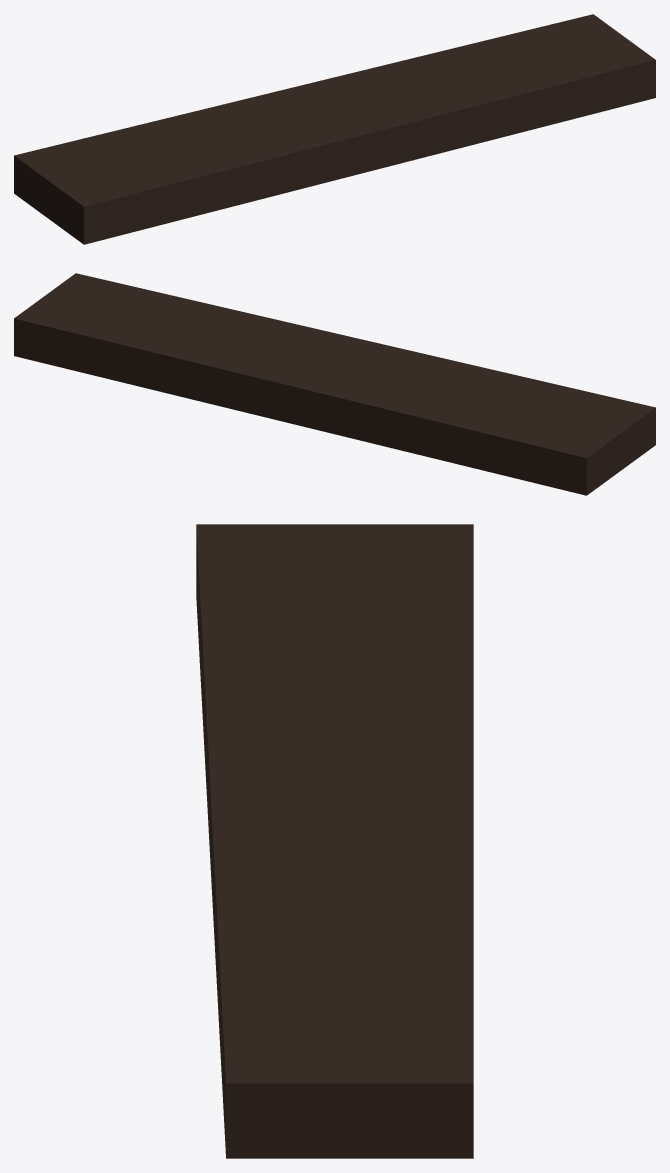
The model's file is Plank_2.fbx.
3 views of the same model, one above another, from view 1: azimuth 30°, elevation 25°; view 2: azimuth 150°, elevation 25°; view 3: azimuth 270°, elevation 25° (orthographic). The views are drawn at different scales.
Parts seen in each view (by area): view 1: Plank_2; view 2: Plank_2; view 3: Plank_2.
Boxes of the visible parts, box(x1,y1,x2,y2) form: Plank_2: box(14, 14, 655, 244); Plank_2: box(14, 273, 655, 495); Plank_2: box(196, 524, 473, 1158).
Size of the model in its own units: 199 by 12.48 by 41.68.
